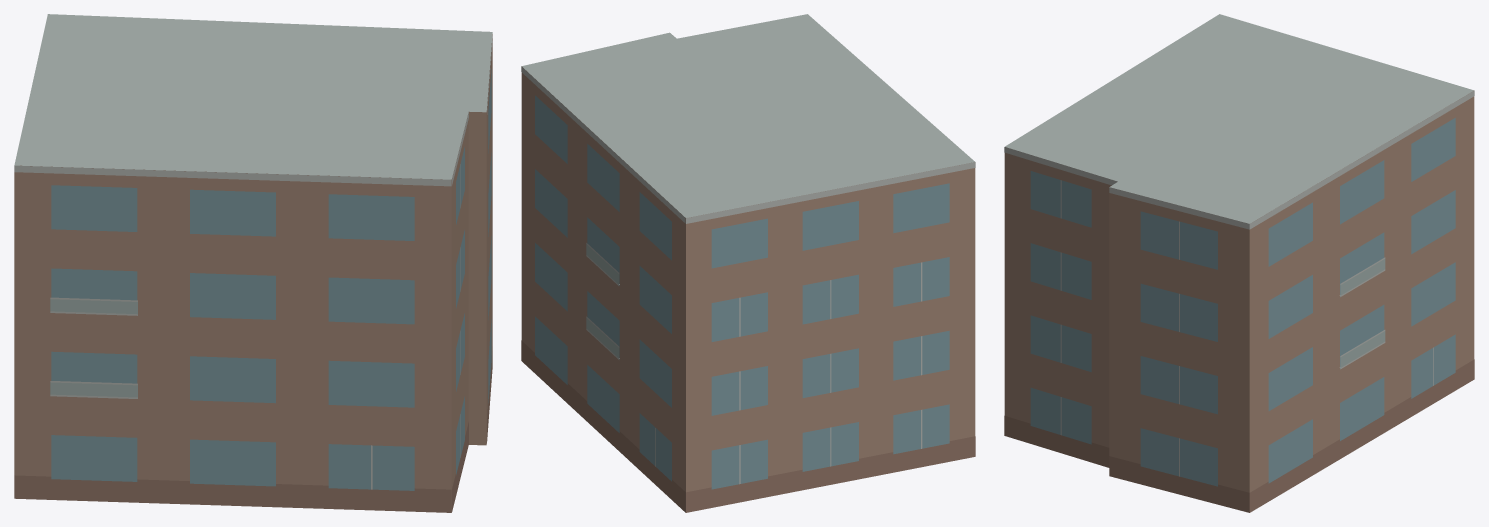
The model's file is survey-upis-32614277.glb.
3 renders of one model, left to right at view 1: azimuth 30°, elevation 25°; view 2: azimuth 150°, elevation 25°; view 3: azimuth 270°, elevation 25°, orthographic. The views are drawn at different scales.
Parts seen in each view (by area): view 1: survey-upis-32614277.tmp; view 2: survey-upis-32614277.tmp; view 3: survey-upis-32614277.tmp.
Part boxes in pixels (x1=…): survey-upis-32614277.tmp: x1=14, y1=14, x2=492, y2=512; survey-upis-32614277.tmp: x1=521, y1=14, x2=975, y2=512; survey-upis-32614277.tmp: x1=1004, y1=14, x2=1474, y2=512.
Bounding box in the file's own units: 19.01 × 12.2 × 17.98.
